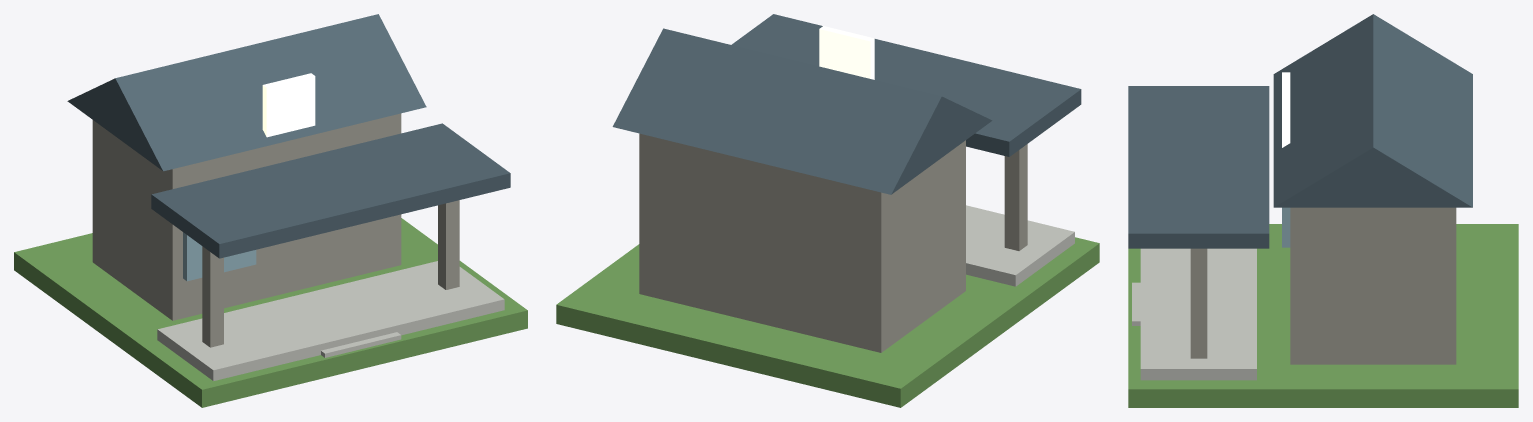
File: station.glb
3 views of the same model, side by side, from view 1: azimuth 30°, elevation 25°; view 2: azimuth 150°, elevation 25°; view 3: azimuth 270°, elevation 25° (orthographic). The views are drawn at different scales.
Parts seen in each view (by area): view 1: station; view 2: station; view 3: station.
Part boxes in pixels (<box>): station: <box>14,14,527,407</box>; station: <box>556,14,1099,407</box>; station: <box>1128,14,1518,407</box>.
Bounding box in the file's own units: 0.94 × 0.65 × 0.94.
